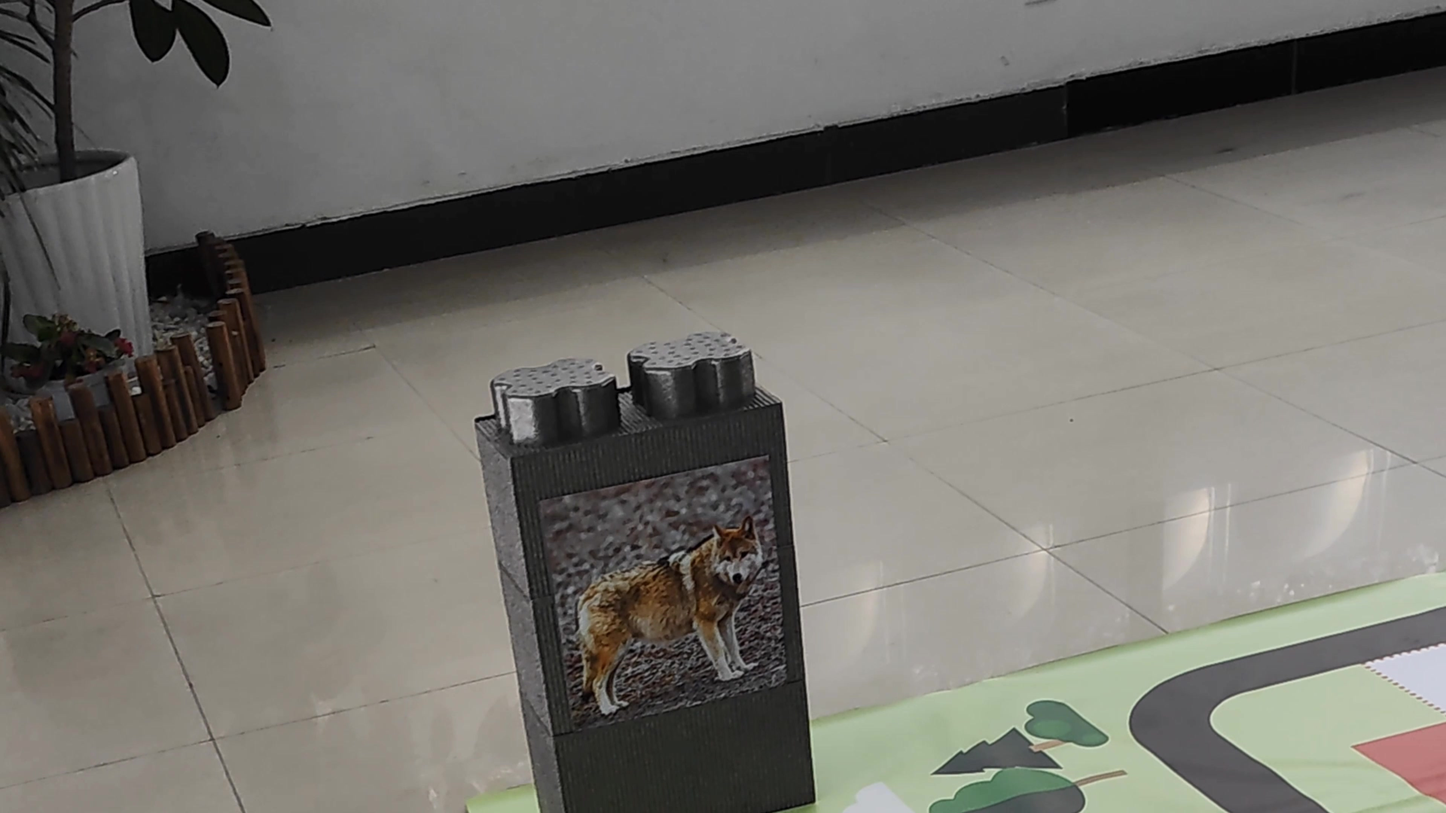wolf: (561, 478, 779, 707)
